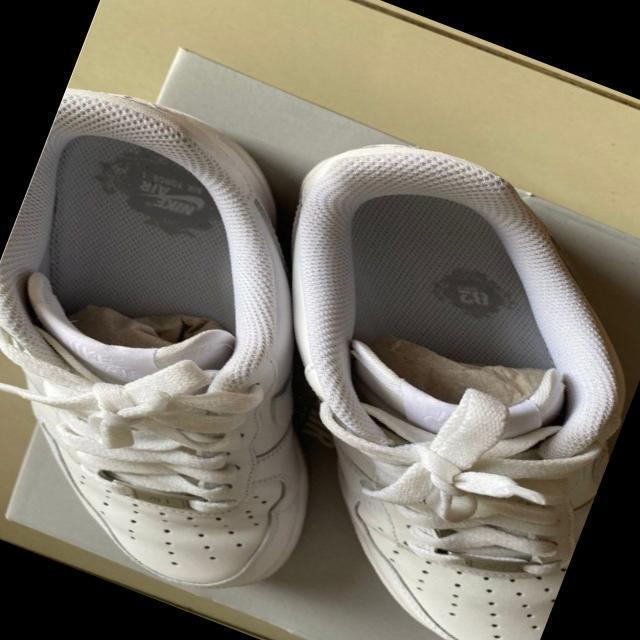nike original air force: (162, 104, 640, 640), (0, 70, 430, 626)
